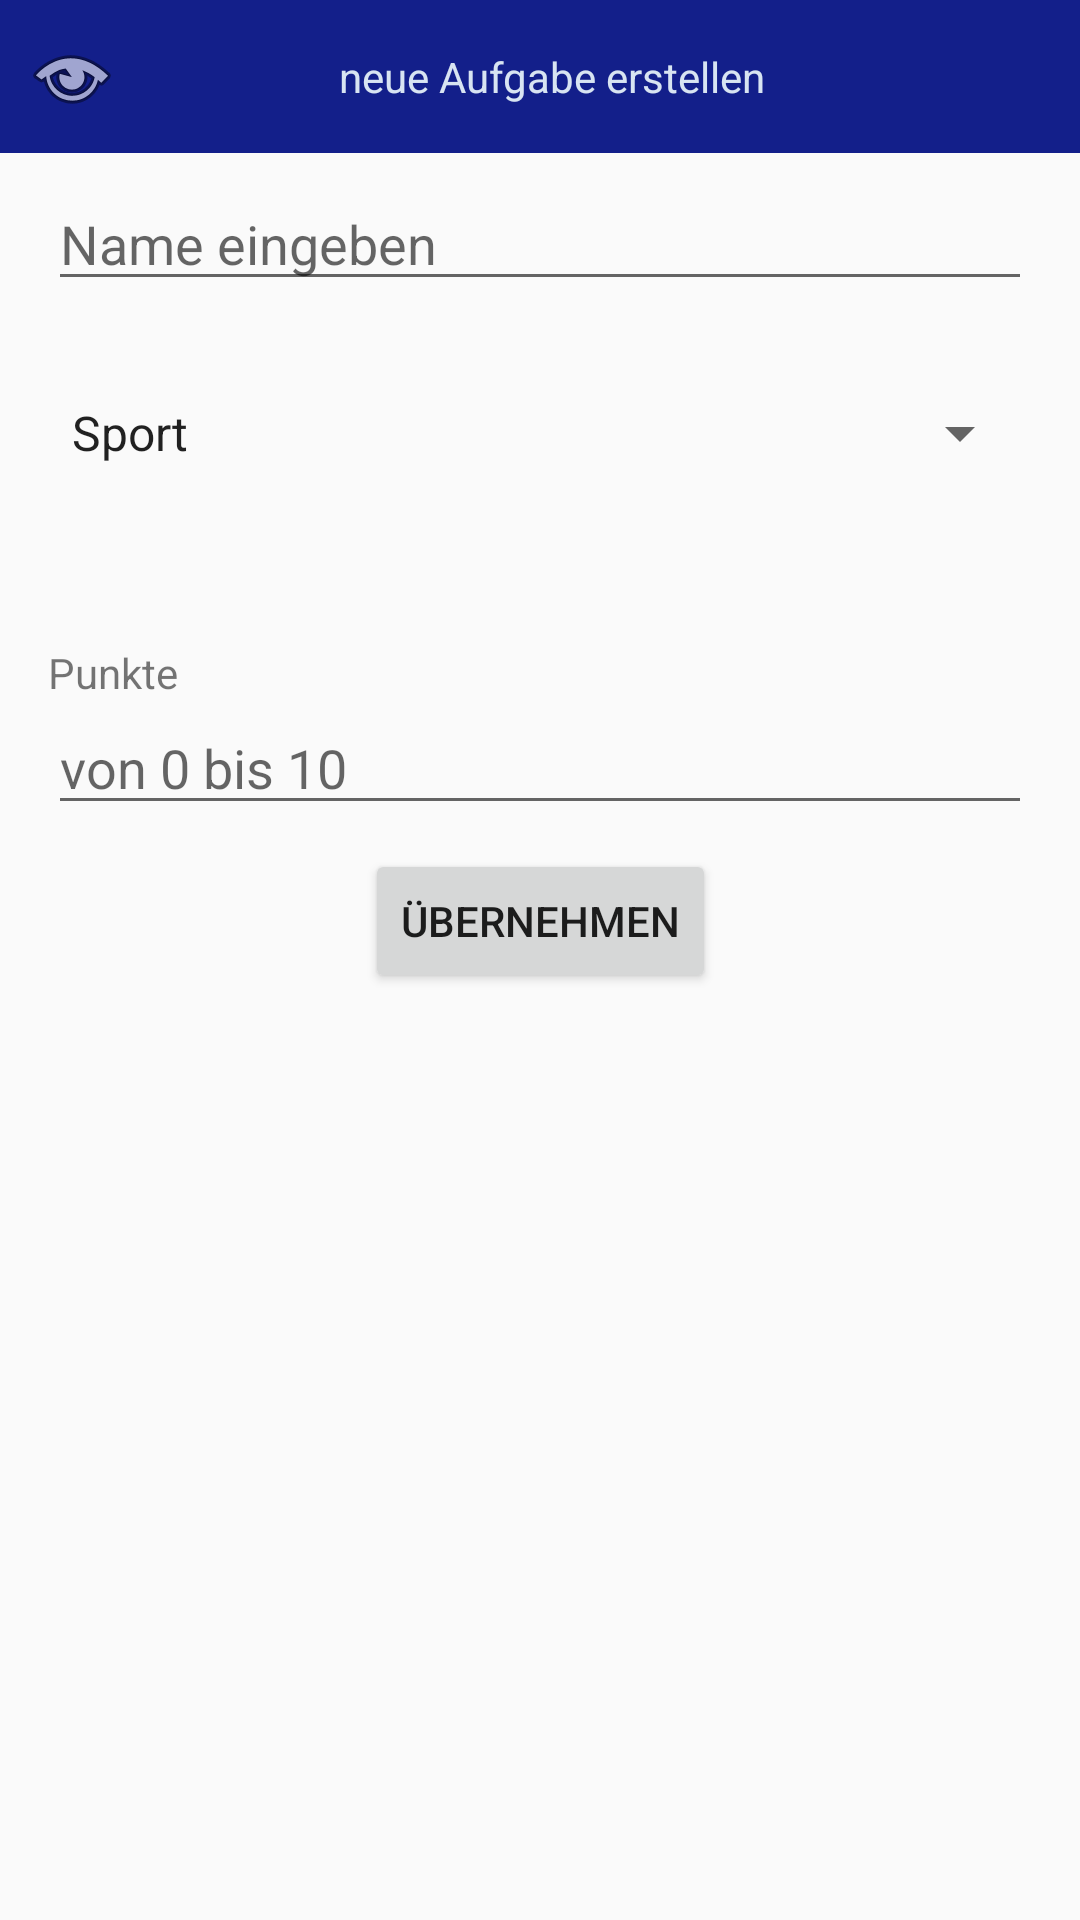

Locate icon controls on the screen. Image size 1080 × 1920, boxes as (x1, y1, x2, y2).
view: (33, 55, 111, 104)
